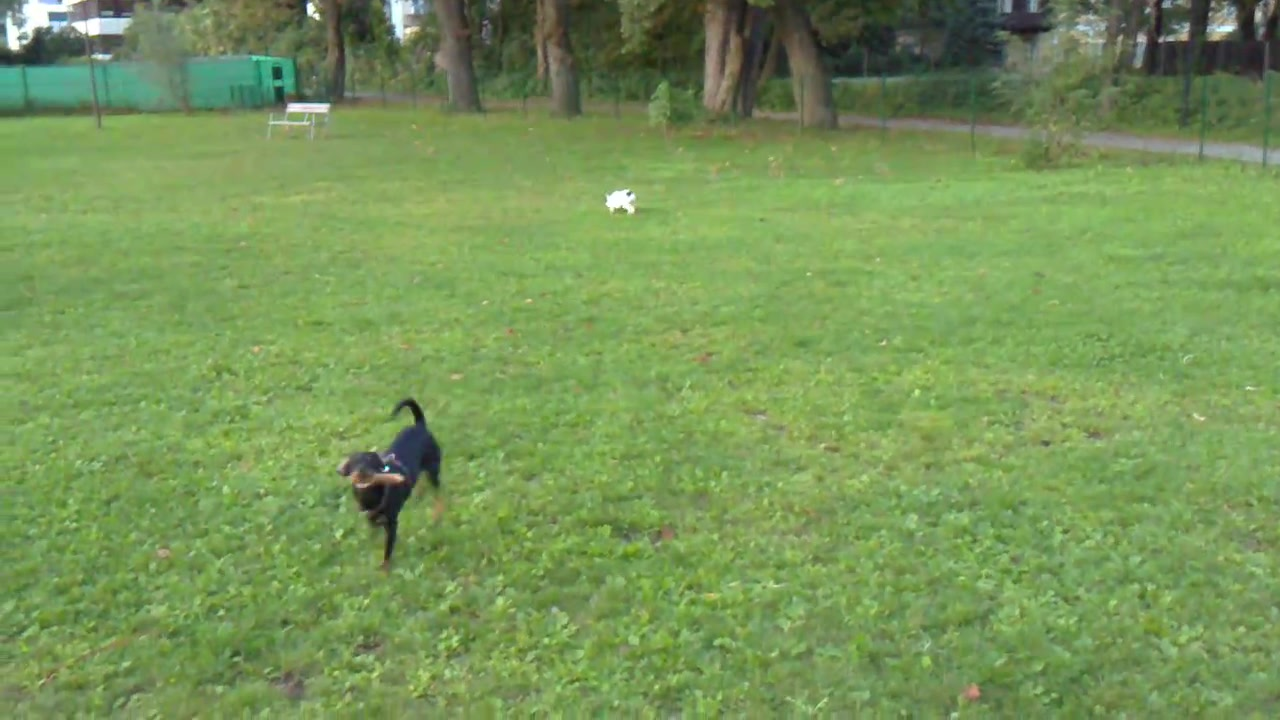dog: (335, 396, 446, 569), (601, 185, 645, 220)
